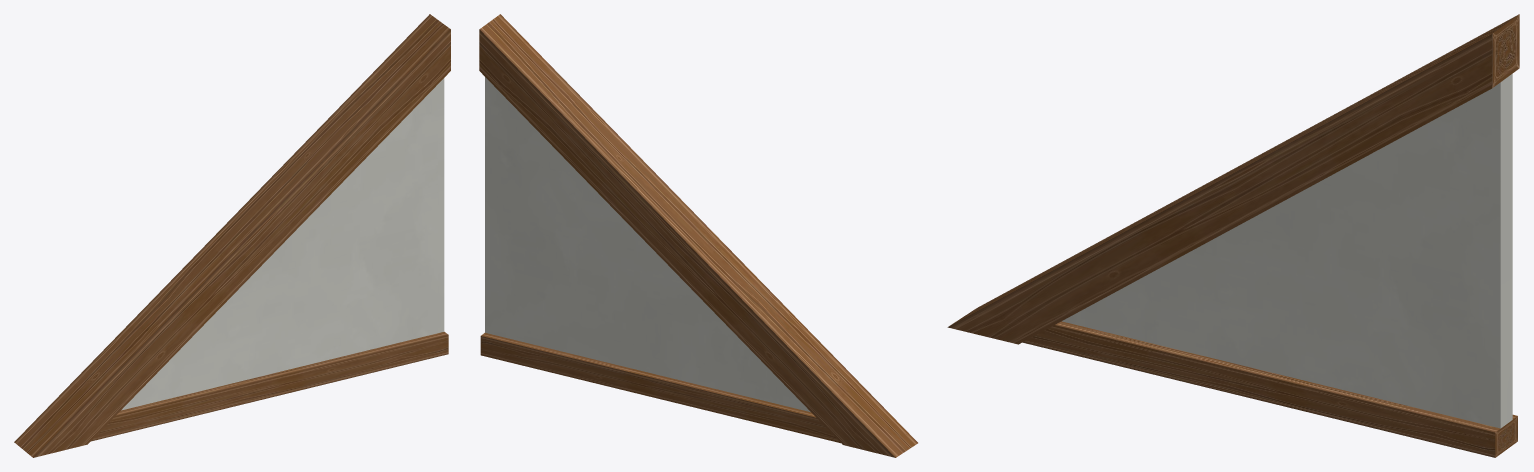
File: SM_Roof_Wall_wstone.glb
The picture shows the model from 3 angles, left to right: view 1: azimuth 30°, elevation 25°; view 2: azimuth 150°, elevation 25°; view 3: azimuth 330°, elevation 25°; orthographic projection. The views are drawn at different scales.
Visible parts, largest first — view 1: SM_Roof_Wall; view 2: SM_Roof_Wall; view 3: SM_Roof_Wall.
Boxes of the visible parts, x1,y1,x2,y2 form: SM_Roof_Wall: (14, 14, 450, 457); SM_Roof_Wall: (479, 14, 917, 457); SM_Roof_Wall: (947, 14, 1519, 457).
Bounding box in the file's own units: 4.02 × 3.01 × 0.349.
Materials: 2 (2 with a texture image).
